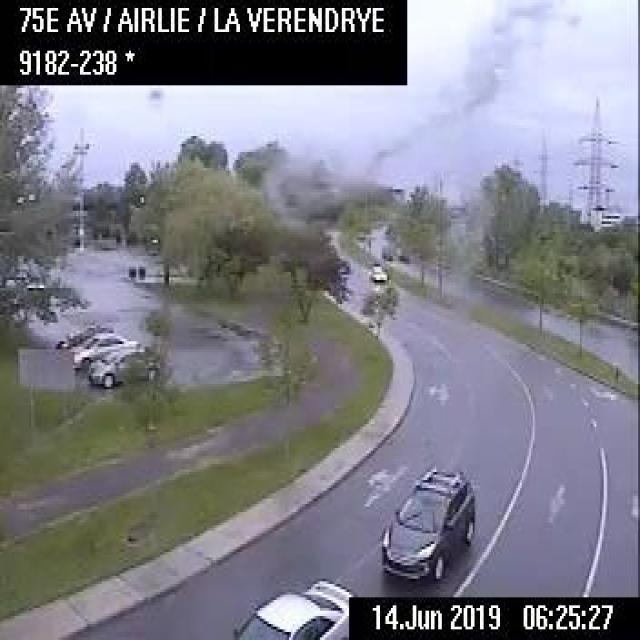vehicle: (380, 464, 475, 584), (229, 574, 347, 638), (88, 344, 158, 389), (72, 329, 138, 370), (366, 261, 386, 283)
